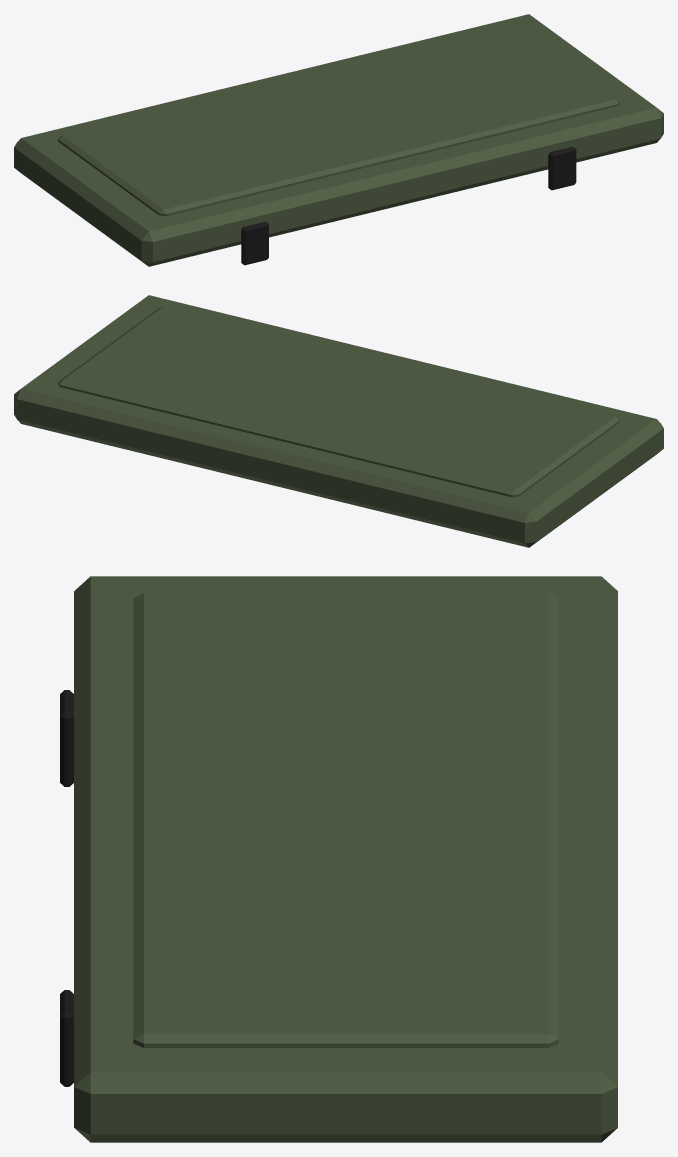
Rendered from SRZ_ArmyBox_Unique_Lid.fbx.
The picture shows the model from 3 angles, top to bottom: view 1: azimuth 30°, elevation 25°; view 2: azimuth 150°, elevation 25°; view 3: azimuth 270°, elevation 25°; orthographic projection. The views are drawn at different scales.
Visible parts, largest first — view 1: ArmyBox_Unique_Lid; view 2: ArmyBox_Unique_Lid; view 3: ArmyBox_Unique_Lid.
Boxes of the visible parts, x1,y1,x2,y2 form: ArmyBox_Unique_Lid: (14,14,663,266); ArmyBox_Unique_Lid: (14,295,663,547); ArmyBox_Unique_Lid: (60,576,617,1142).
Bounding box in the file's own units: 102 × 10.5 × 47.2.
